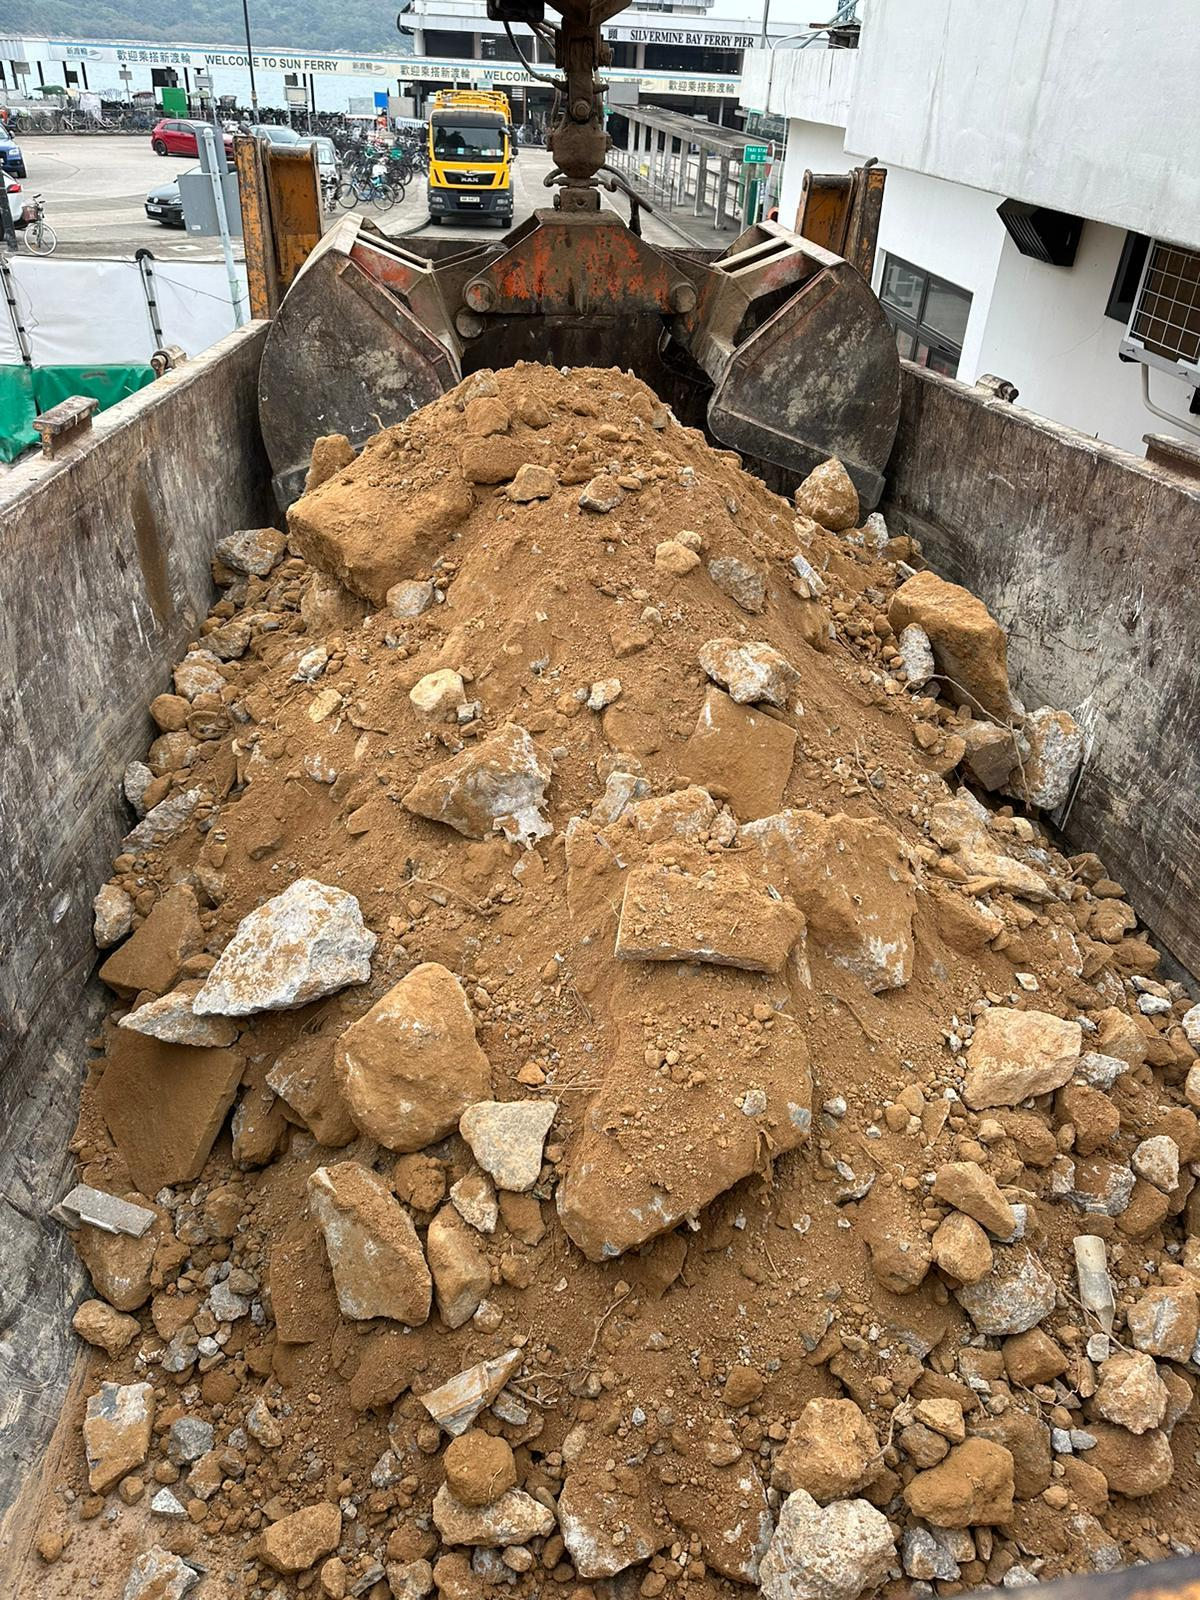dry: (77, 363, 1200, 1592)
